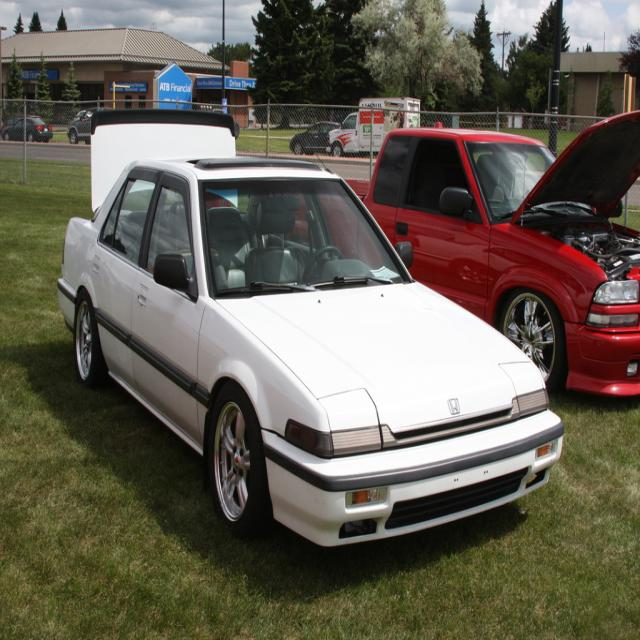car: (53, 115, 560, 551), (0, 115, 51, 143)
